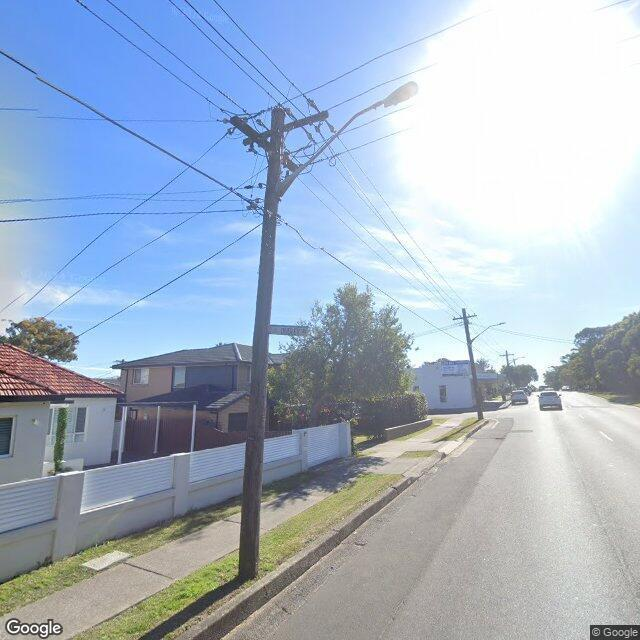crossarm: (230, 114, 300, 174), (243, 111, 329, 146), (452, 314, 478, 320), (499, 354, 514, 356)
streetlight: (279, 81, 422, 214), (470, 321, 506, 345), (509, 356, 527, 362)
timber-pole: (238, 105, 284, 580), (462, 308, 484, 420), (506, 350, 509, 366)
